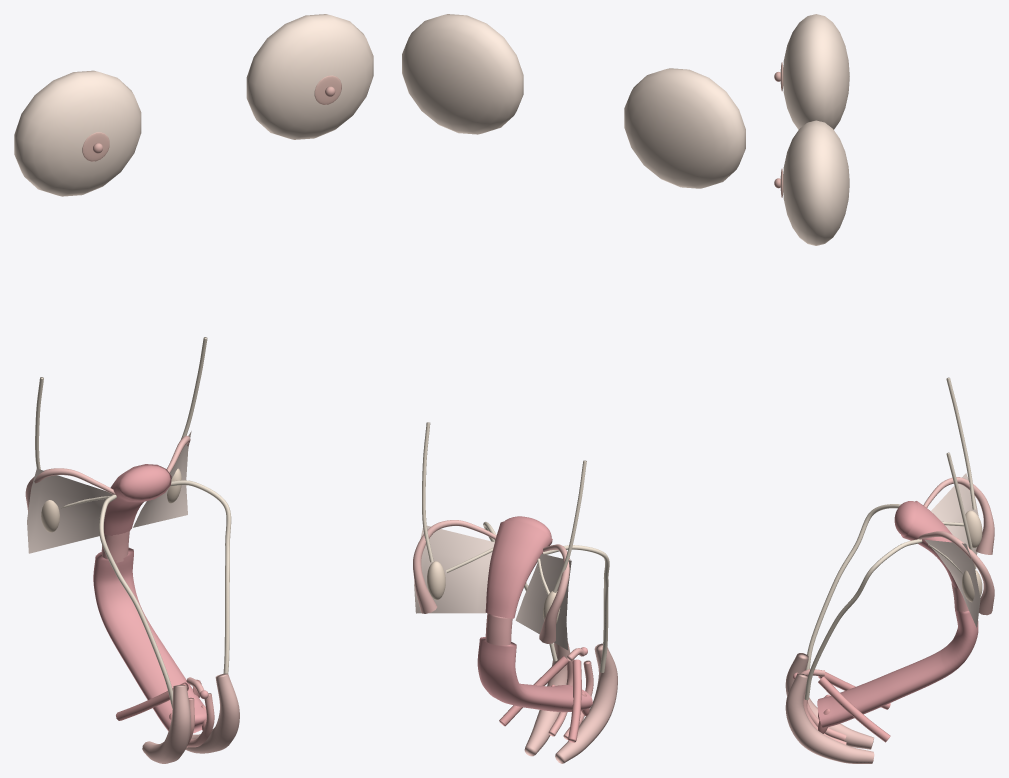
File: feminin.glb
The picture shows the model from 3 angles, left to right: view 1: azimuth 30°, elevation 25°; view 2: azimuth 150°, elevation 25°; view 3: azimuth 270°, elevation 25°; orthographic projection. The views are drawn at different scales.
Visible parts, largest first — view 1: Mammary gland.r, Mammary gland.l, Vagina, Broad ligament of uterus.r, Labium majus of vulva.r, Labium majus of vulva.l, Broad ligament of uterus.l, Fundus of uterus, Body of uterus, Round ligament of uterus.l, Round ligament of uterus.r, Uterine tube.r (+1 smaller); view 2: Mammary gland.r, Mammary gland.l, Broad ligament of uterus.l, Body of uterus, Vagina, Labium majus of vulva.r, Broad ligament of uterus.r, Uterine tube.l, Labium majus of vulva.l, Uterine tube.r, Round ligament of uterus.r, Crus of clitoris.r (+4 smaller); view 3: Mammary gland.l, Mammary gland.r, Vagina, Labium majus of vulva.l, Broad ligament of uterus.l, Broad ligament of uterus.r, Body of uterus, Uterine tube.r, Labium majus of vulva.r, Uterine tube.l, Round ligament of uterus.l, Round ligament of uterus.r (+6 smaller).
Boxes of the visible parts, <box> form: Mammary gland.r: <box>14,70,141,196</box>; Mammary gland.l: <box>246,14,373,139</box>; Vagina: <box>93,547,206,733</box>; Broad ligament of uterus.r: <box>27,468,112,553</box>; Labium majus of vulva.r: <box>142,685,190,763</box>; Labium majus of vulva.l: <box>185,673,239,753</box>; Broad ligament of uterus.l: <box>133,431,191,527</box>; Fundus of uterus: <box>118,465,170,500</box>; Body of uterus: <box>104,464,171,535</box>; Round ligament of uterus.l: <box>170,480,231,673</box>; Round ligament of uterus.r: <box>99,494,172,708</box>; Uterine tube.r: <box>25,468,115,511</box>; Mammary gland.r: <box>624,68,745,188</box>; Mammary gland.l: <box>402,14,523,134</box>; Broad ligament of uterus.l: <box>414,525,494,613</box>; Body of uterus: <box>485,520,552,618</box>; Vagina: <box>477,637,592,712</box>; Labium majus of vulva.r: <box>555,643,617,763</box>; Broad ligament of uterus.r: <box>515,554,571,650</box>; Uterine tube.l: <box>413,520,496,613</box>; Labium majus of vulva.l: <box>524,641,570,756</box>; Uterine tube.r: <box>539,544,570,643</box>; Round ligament of uterus.r: <box>543,545,609,672</box>; Crus of clitoris.r: <box>568,659,581,742</box>; Mammary gland.l: <box>783,120,849,245</box>; Mammary gland.r: <box>783,14,849,129</box>; Vagina: <box>817,609,978,727</box>; Labium majus of vulva.l: <box>785,673,874,763</box>; Broad ligament of uterus.l: <box>925,539,980,627</box>; Broad ligament of uterus.r: <box>931,473,978,554</box>; Body of uterus: <box>901,501,958,588</box>; Uterine tube.r: <box>923,477,994,554</box>; Labium majus of vulva.r: <box>785,653,873,749</box>; Uterine tube.l: <box>918,531,994,615</box>; Round ligament of uterus.l: <box>804,539,922,699</box>; Round ligament of uterus.r: <box>806,504,900,669</box>.
Bounding box in the file's own units: 0.3203 × 0.628 × 0.1838.
